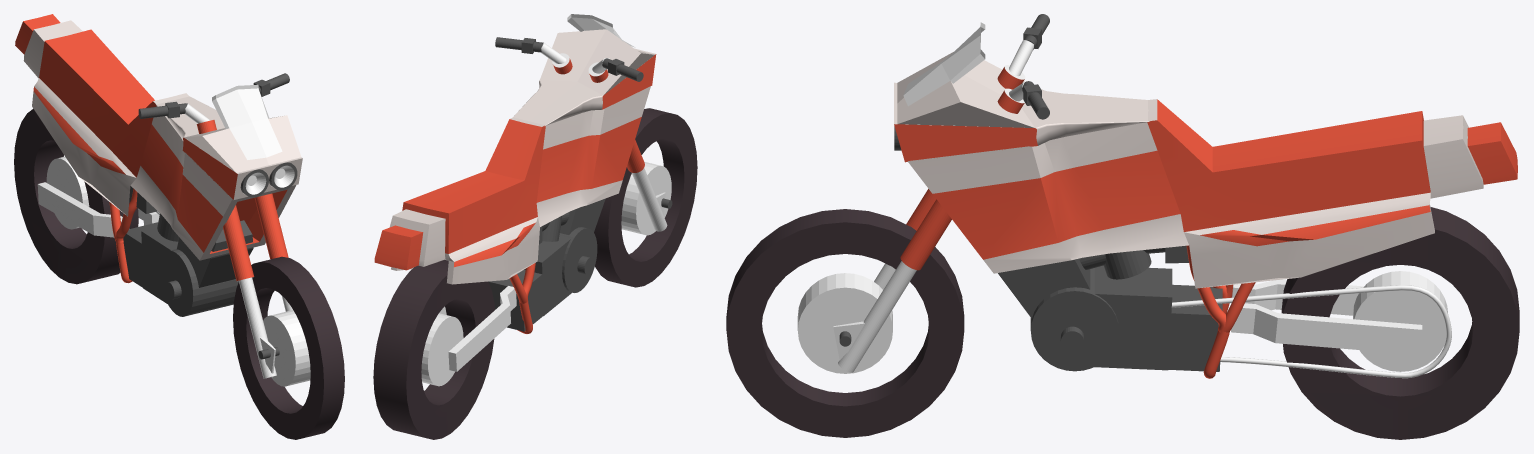
Rendered from push.glb.
3 views of the same model, side by side, from view 1: azimuth 30°, elevation 25°; view 2: azimuth 150°, elevation 25°; view 3: azimuth 270°, elevation 25° (orthographic). The views are drawn at different scales.
Parts seen in each view (by area): view 1: Cube_0, Mesh_6, Mesh_7, Mesh_5, Mesh_9, Mesh_13, Mesh_4, Mesh_14, Mesh_11, Mesh_16, Mesh_2, Mesh_10 (+8 smaller); view 2: Cube_0, Mesh_7, Mesh_6, Mesh_4, Mesh_11, Mesh_2, Mesh_15, Mesh_16, Mesh_14, Mesh_9, Mesh_12, Mesh_22 (+7 smaller); view 3: Cube_0, Mesh_7, Mesh_6, Mesh_11, Mesh_16, Mesh_14, Mesh_9, Mesh_15, Mesh_4, Mesh_2, Mesh_3, Mesh_25 (+7 smaller).
Boxes of the visible parts, x1,y1,x2,y2 form: Cube_0: [15, 14, 296, 260]; Mesh_6: [233, 256, 344, 439]; Mesh_7: [14, 108, 138, 284]; Mesh_5: [212, 84, 282, 159]; Mesh_9: [159, 249, 238, 316]; Mesh_13: [196, 120, 288, 280]; Mesh_4: [184, 115, 301, 172]; Mesh_14: [263, 310, 310, 386]; Mesh_11: [123, 222, 178, 303]; Mesh_16: [37, 182, 159, 237]; Mesh_2: [156, 96, 302, 199]; Mesh_10: [177, 220, 253, 287]; Cube_0: [374, 86, 650, 284]; Mesh_7: [373, 259, 494, 439]; Mesh_6: [594, 108, 697, 287]; Mesh_4: [540, 29, 654, 95]; Mesh_11: [488, 236, 571, 331]; Mesh_2: [513, 48, 655, 125]; Mesh_15: [421, 313, 463, 386]; Mesh_16: [439, 286, 516, 371]; Mesh_14: [621, 161, 671, 235]; Mesh_9: [559, 227, 597, 292]; Mesh_12: [552, 53, 667, 231]; Mesh_22: [495, 37, 643, 81]; Cube_0: [907, 99, 1517, 288]; Mesh_7: [1281, 207, 1519, 439]; Mesh_6: [726, 209, 964, 437]; Mesh_11: [1094, 265, 1222, 371]; Mesh_16: [1231, 279, 1422, 354]; Mesh_14: [797, 273, 892, 373]; Mesh_9: [1030, 268, 1118, 371]; Mesh_15: [1353, 271, 1447, 371]; Mesh_4: [897, 52, 1034, 127]; Mesh_2: [894, 82, 1149, 145]; Mesh_3: [894, 124, 1037, 162]; Mesh_25: [1171, 285, 1451, 378].
Size of the model in its own units: 2.83 by 5.59 by 10.03.
